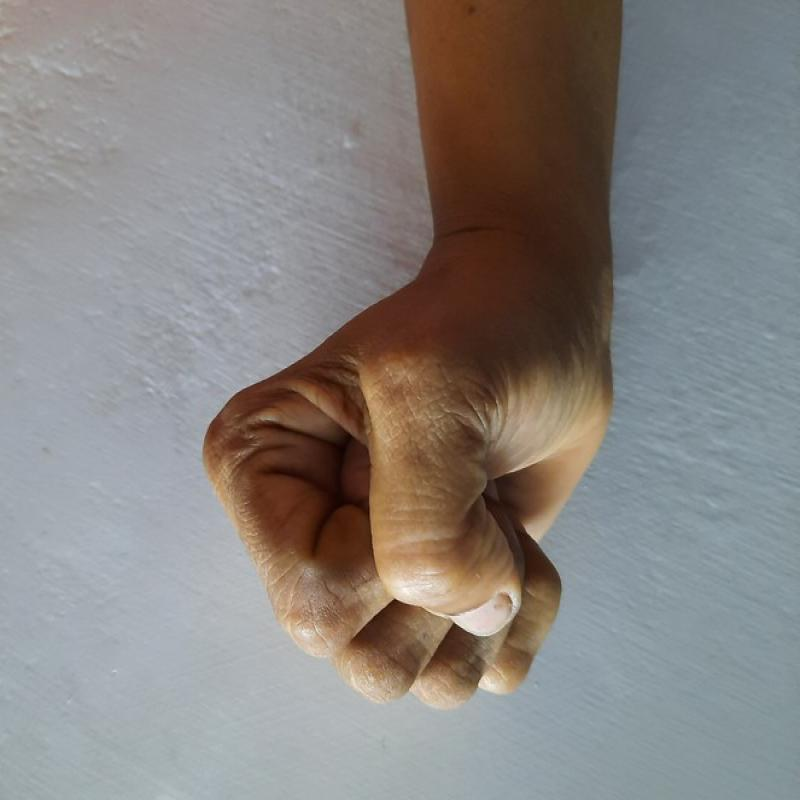Mushti: (186, 278, 636, 719)
